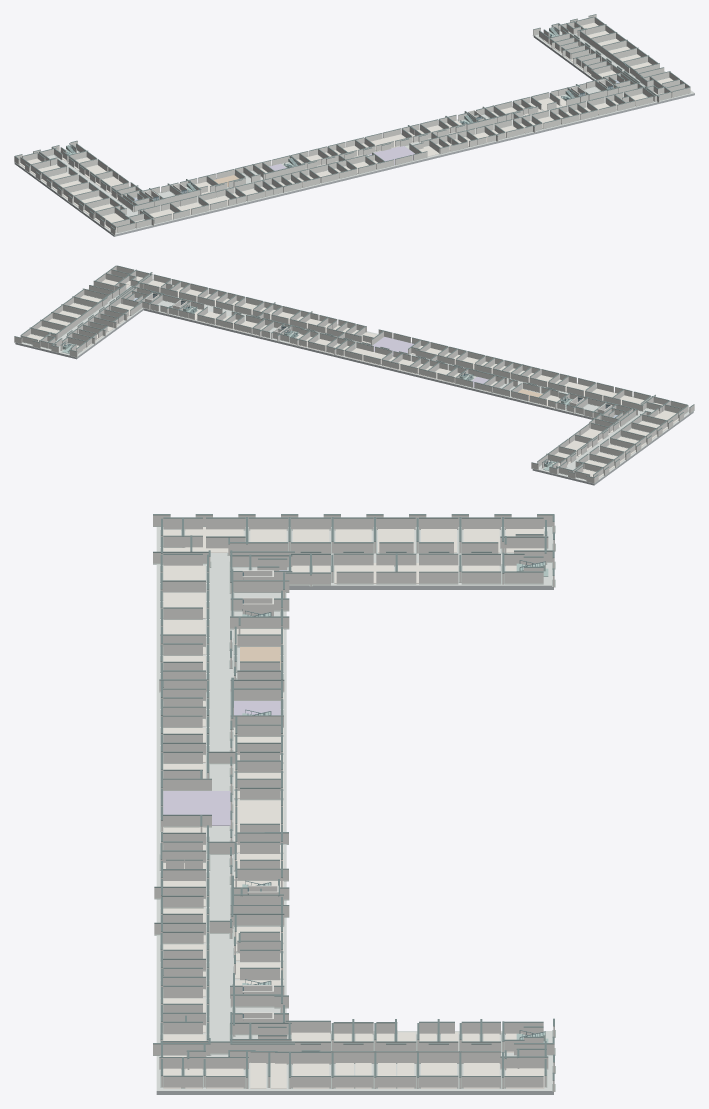
The picture shows the model from 3 angles, top to bottom: view 1: azimuth 30°, elevation 25°; view 2: azimuth 150°, elevation 25°; view 3: azimuth 270°, elevation 25°; orthographic projection. The views are drawn at different scales.
Visible parts, largest first — view 1: wall, cap, room, floor, slab, shadow, place, stair; view 2: wall, cap, room, floor, slab, shadow, place, stair; view 3: wall, room, cap, floor, shadow, slab, place.
Part boxes in pixels (x1,y1,x2,y2): wall: (14, 14, 690, 235); cap: (14, 14, 690, 229); room: (19, 22, 691, 232); floor: (19, 21, 694, 234); slab: (14, 36, 694, 236); shadow: (14, 30, 690, 235); place: (269, 146, 414, 170); stair: (66, 27, 574, 191); wall: (14, 266, 694, 483); cap: (14, 265, 694, 477); room: (27, 276, 684, 477); floor: (22, 279, 689, 481); slab: (15, 308, 693, 485); shadow: (14, 280, 694, 483); place: (372, 337, 488, 387); stair: (62, 306, 572, 470); wall: (153, 515, 554, 1091); room: (163, 527, 544, 1088); cap: (153, 514, 554, 1080); floor: (156, 527, 553, 1090); shadow: (153, 525, 555, 1091); slab: (156, 586, 553, 1094); place: (163, 701, 280, 825).
Bounding box in the file's own units: 1890 × 30.49 × 568.
